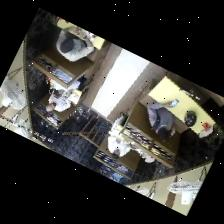person: (57, 26, 94, 61), (148, 102, 176, 140), (108, 112, 130, 158), (53, 74, 87, 98), (46, 93, 71, 111)
